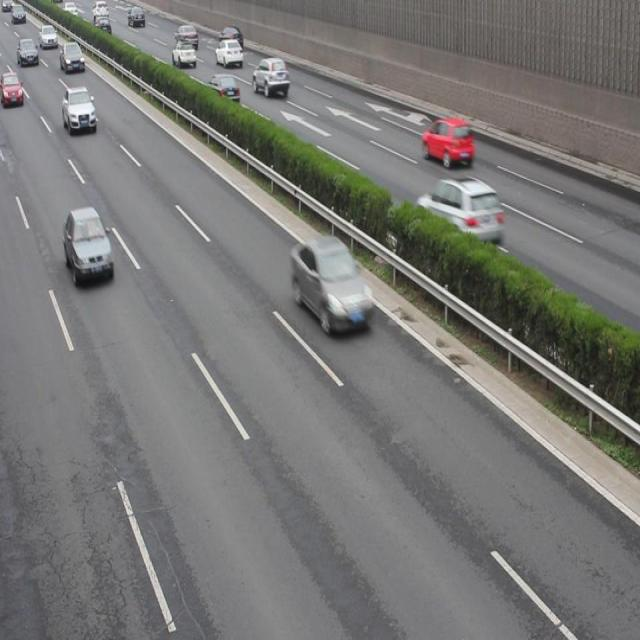car: (290, 235, 374, 332), (418, 176, 503, 244), (63, 208, 114, 284), (421, 116, 473, 166), (63, 88, 96, 132), (253, 58, 289, 96), (207, 74, 239, 106), (60, 43, 85, 73), (216, 40, 243, 66), (1, 73, 23, 104), (219, 26, 243, 52), (173, 41, 196, 67), (18, 40, 39, 64), (176, 24, 198, 46)
